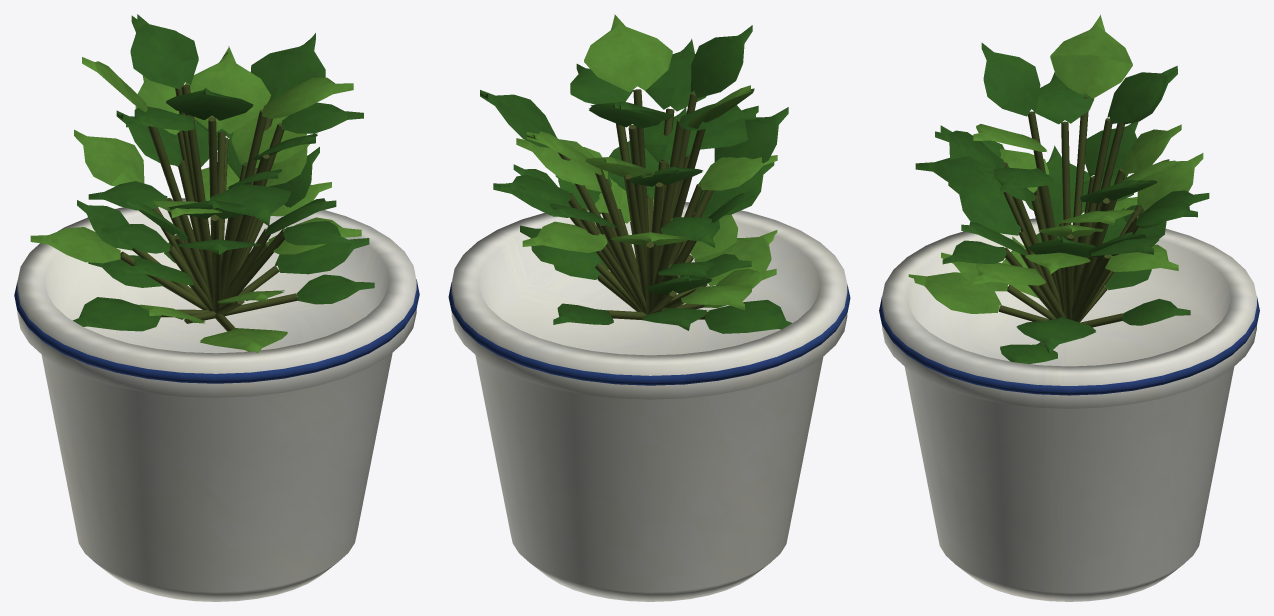
File: PROP_MorningWhite_Pot_Mint.glb
3 views of the same model, side by side, from view 1: azimuth 30°, elevation 25°; view 2: azimuth 150°, elevation 25°; view 3: azimuth 270°, elevation 25° (orthographic). The views are drawn at different scales.
Visible parts, largest first — view 1: PROP_MorningWhite_Pot_Mint; view 2: PROP_MorningWhite_Pot_Mint; view 3: PROP_MorningWhite_Pot_Mint.
Part boxes in pixels (bbox=[...]): PROP_MorningWhite_Pot_Mint: bbox=[14, 14, 419, 601]; PROP_MorningWhite_Pot_Mint: bbox=[448, 14, 850, 601]; PROP_MorningWhite_Pot_Mint: bbox=[879, 14, 1259, 601].
Bounding box in the file's own units: 0.615 × 0.855 × 0.608.
Materials: 6 (6 with a texture image).
